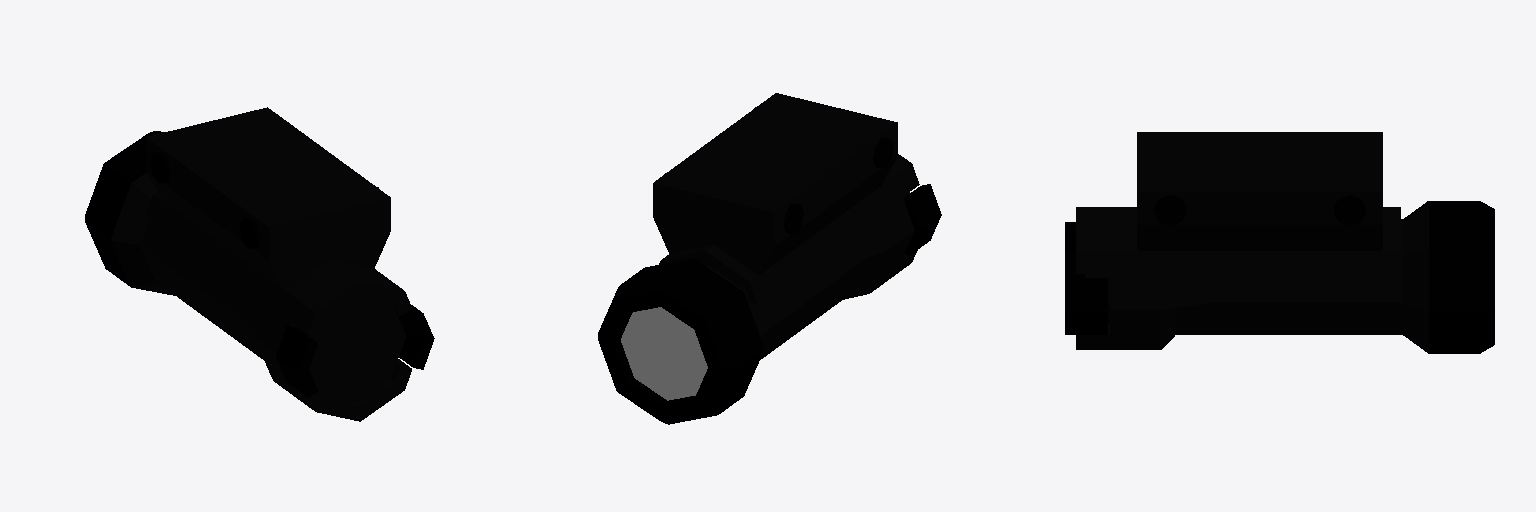
File: Flashlight_West.obj
3 views of the same model, side by side, from view 1: azimuth 30°, elevation 25°; view 2: azimuth 150°, elevation 25°; view 3: azimuth 270°, elevation 25° (orthographic).
Visible parts, largest first — view 1: Flashlight_West; view 2: Flashlight_West; view 3: Flashlight_West.
Part boxes in pixels (bbox=[...]): Flashlight_West: bbox=[85, 107, 434, 421]; Flashlight_West: bbox=[598, 93, 941, 424]; Flashlight_West: bbox=[1065, 132, 1494, 353].
Bounding box in the file's own units: 0.0524 × 0.0672 × 0.1373.